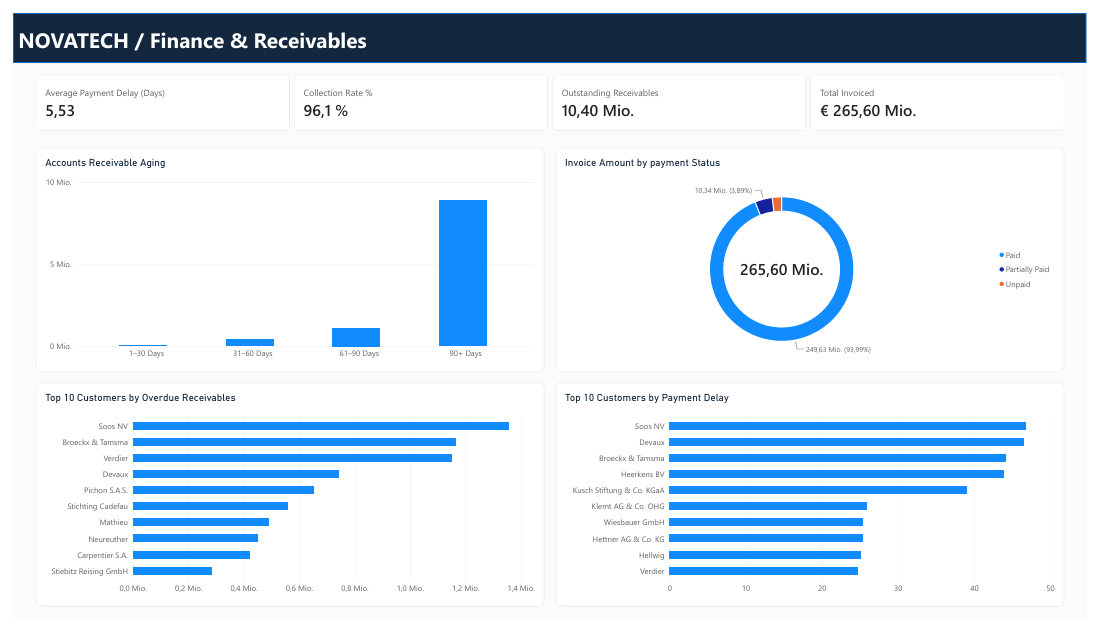

The page's visual inventory and layout, read from the dashboard file:
{"tool":"powerbi","page":{"name":"Finance & Recievables","canvas":[1920,1080],"ordinal":3},"visuals":[{"type":"clusteredColumnChart","title":"Accounts Receivable Aging","fields":{"Category":["public vw_invoice_status.AR Aging Bucket"],"Y":["Sum(public vw_invoice_status.outstanding_amount)"]},"box":[40,240,910,400],"z":0},{"type":"donutChart","title":"Invoice Amount by payment Status","fields":{"Category":["public vw_invoice_status.payment_status"],"Y":["Sum(public vw_invoice_status.invoice_amount)"]},"box":[970,240,910,400],"z":1000},{"type":"clusteredBarChart","title":"Top 10 Customers by Payment Delay","fields":{"Category":["customer_performance.customer_name"],"Y":["customer_performance.Average Payment Delay"]},"box":[970,660,910,400],"z":2000},{"type":"clusteredBarChart","title":"Top 10 Customers by Overdue Recievables","fields":{"Category":["customer_performance.customer_name"],"Y":["Sum(customer_performance.overdue_amount)"]},"box":[40,660,910,400],"z":3000},{"type":"cardVisual","fields":{"Data":["customer_performance.Average Payment Delay","customer_performance.Collection Rate %","customer_performance.Outstanding Receivables","customer_performance.Total Invoiced"]},"box":[40,110,1840,100],"z":4000},{"type":"group","id":"g1","title":"Gruppe 1","box":[0,0,1919.2,88.5],"z":4001},{"type":"shape","box":[0,0,1919.2,88.5],"z":12000,"group":"g1"},{"type":"textbox","box":[0,22.1,1919.2,66.3],"z":13000,"group":"g1"}]}

Visuals, with their boxes in screenshot pixels (x1, y1, x2, y2), scaled from the page's 1920x1080 canvas onto the 1101x629 screenshot:
"Accounts Receivable Aging" clusteredColumnChart: crop(23, 140, 545, 373)
"Invoice Amount by payment Status" donutChart: crop(556, 140, 1078, 373)
"Top 10 Customers by Payment Delay" clusteredBarChart: crop(556, 384, 1078, 617)
"Top 10 Customers by Overdue Recievables" clusteredBarChart: crop(23, 384, 545, 617)
cardVisual - customer_performance.Average Payment Delay x customer_performance.Collection Rate %: crop(23, 64, 1078, 122)
"Gruppe 1" group: crop(0, 0, 1100, 52)
shape: crop(0, 0, 1100, 52)
textbox: crop(0, 13, 1100, 51)
